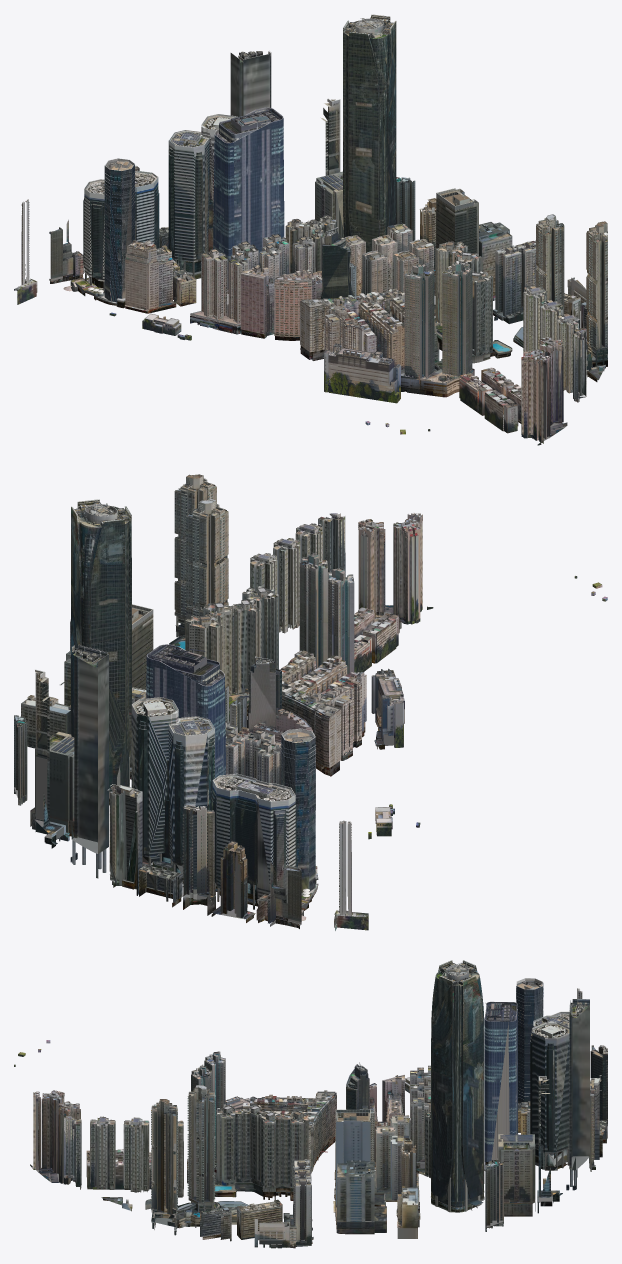
File: buildings.glb
The picture shows the model from 3 angles, top to bottom: view 1: azimuth 30°, elevation 25°; view 2: azimuth 150°, elevation 25°; view 3: azimuth 270°, elevation 25°; orthographic projection. The views are drawn at different scales.
Visible parts, largest first — view 1: B400301635601063A0, B399081640701063A0, B398861646701063A0, B397631644101063A0, B397861648201063A0, B398661609001063A0, B399621604801063A0, B399301607501063A0, B397661640901063A0, B401241601501063A0, B399651651901063A0, B398411628401063A0 (+42 smaller); view 2: B400301635601063A0, B398861646701063A0, B397861648201063A0, B399651651901063A0, B399081640701063A0, B400851605601063A0, B397631644101063A0, B399111652701063A0, B398651620701063A0, B399621604801063A0, B398261652501063A0, B399661588301063A0 (+32 smaller); view 3: B400301635601063A0, B398861646701063A0, B399081640701063A0, B399651651901063A0, B400851605601063A0, B401241601501063A0, B400241641701063A0, B401111622701063A0, B397631644101063A0, B400091608601063A0, B400691622901063A0, B400501598001063A0 (+37 smaller).
Part boxes in pixels (x1,y1,x2,y2): B400301635601063A0: [343, 14, 396, 252]; B399081640701063A0: [213, 107, 284, 293]; B398861646701063A0: [168, 114, 237, 259]; B397631644101063A0: [104, 158, 135, 302]; B397861648201063A0: [83, 170, 159, 272]; B398661609001063A0: [324, 343, 400, 402]; B399621604801063A0: [442, 261, 472, 376]; B399301607501063A0: [404, 264, 434, 378]; B397661640901063A0: [124, 239, 176, 313]; B401241601501063A0: [586, 221, 607, 360]; B399651651901063A0: [230, 51, 271, 116]; B398411628401063A0: [240, 265, 306, 338]; B400301635601063A0: [71, 499, 131, 805]; B398861646701063A0: [131, 697, 214, 864]; B397861648201063A0: [211, 773, 296, 909]; B399651651901063A0: [71, 644, 108, 878]; B399081640701063A0: [146, 644, 225, 778]; B400851605601063A0: [186, 499, 228, 619]; B397631644101063A0: [281, 728, 315, 892]; B399111652701063A0: [107, 784, 142, 895]; B398651620701063A0: [295, 690, 347, 776]; B399621604801063A0: [299, 552, 327, 668]; B398261652501063A0: [182, 805, 214, 898]; B399661588301063A0: [393, 518, 420, 621]; B400301635601063A0: [431, 960, 484, 1212]; B398861646701063A0: [530, 1015, 569, 1151]; B399081640701063A0: [484, 1001, 517, 1170]; B399651651901063A0: [569, 999, 589, 1189]; B400851605601063A0: [187, 1085, 219, 1211]; B401241601501063A0: [151, 1099, 196, 1226]; B400241641701063A0: [498, 1133, 535, 1202]; B401111622701063A0: [337, 1160, 374, 1221]; B397631644101063A0: [516, 978, 543, 1104]; B400091608601063A0: [216, 1104, 243, 1185]; B400691622901063A0: [335, 1109, 370, 1205]; B400501598001063A0: [123, 1117, 149, 1192].
Bounding box in the file's own units: 516 × 316 × 695.
210 materials, 209 textured.
